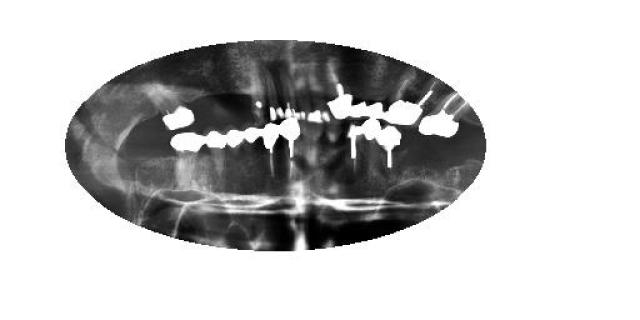Fillings: (148, 82, 194, 132), (170, 132, 205, 188), (206, 132, 228, 186), (244, 128, 265, 170), (362, 119, 382, 162), (308, 65, 322, 123), (228, 129, 244, 165), (350, 88, 369, 118), (295, 75, 307, 120), (366, 90, 384, 118), (285, 70, 295, 119), (270, 70, 276, 122), (278, 72, 284, 121)
Implant: (386, 75, 434, 126), (419, 94, 471, 140), (375, 125, 403, 174), (330, 59, 351, 119), (282, 118, 302, 178), (344, 120, 364, 168), (265, 124, 280, 178)
